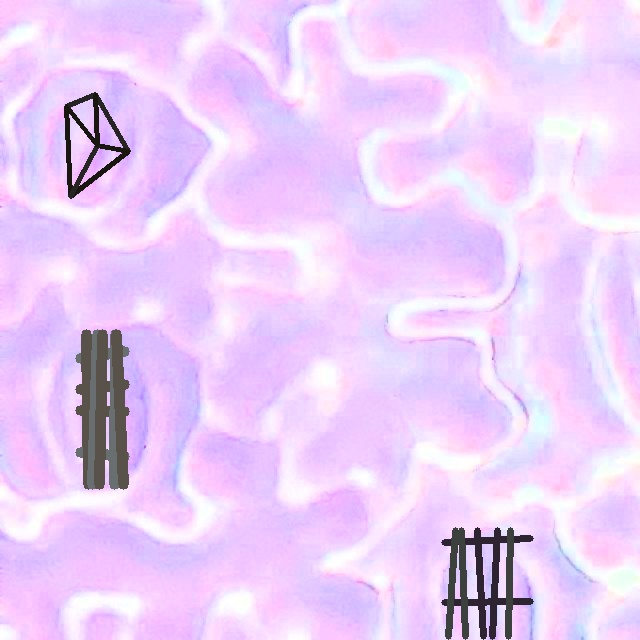open: (442, 527, 533, 638), (76, 330, 128, 488), (64, 92, 130, 198)
